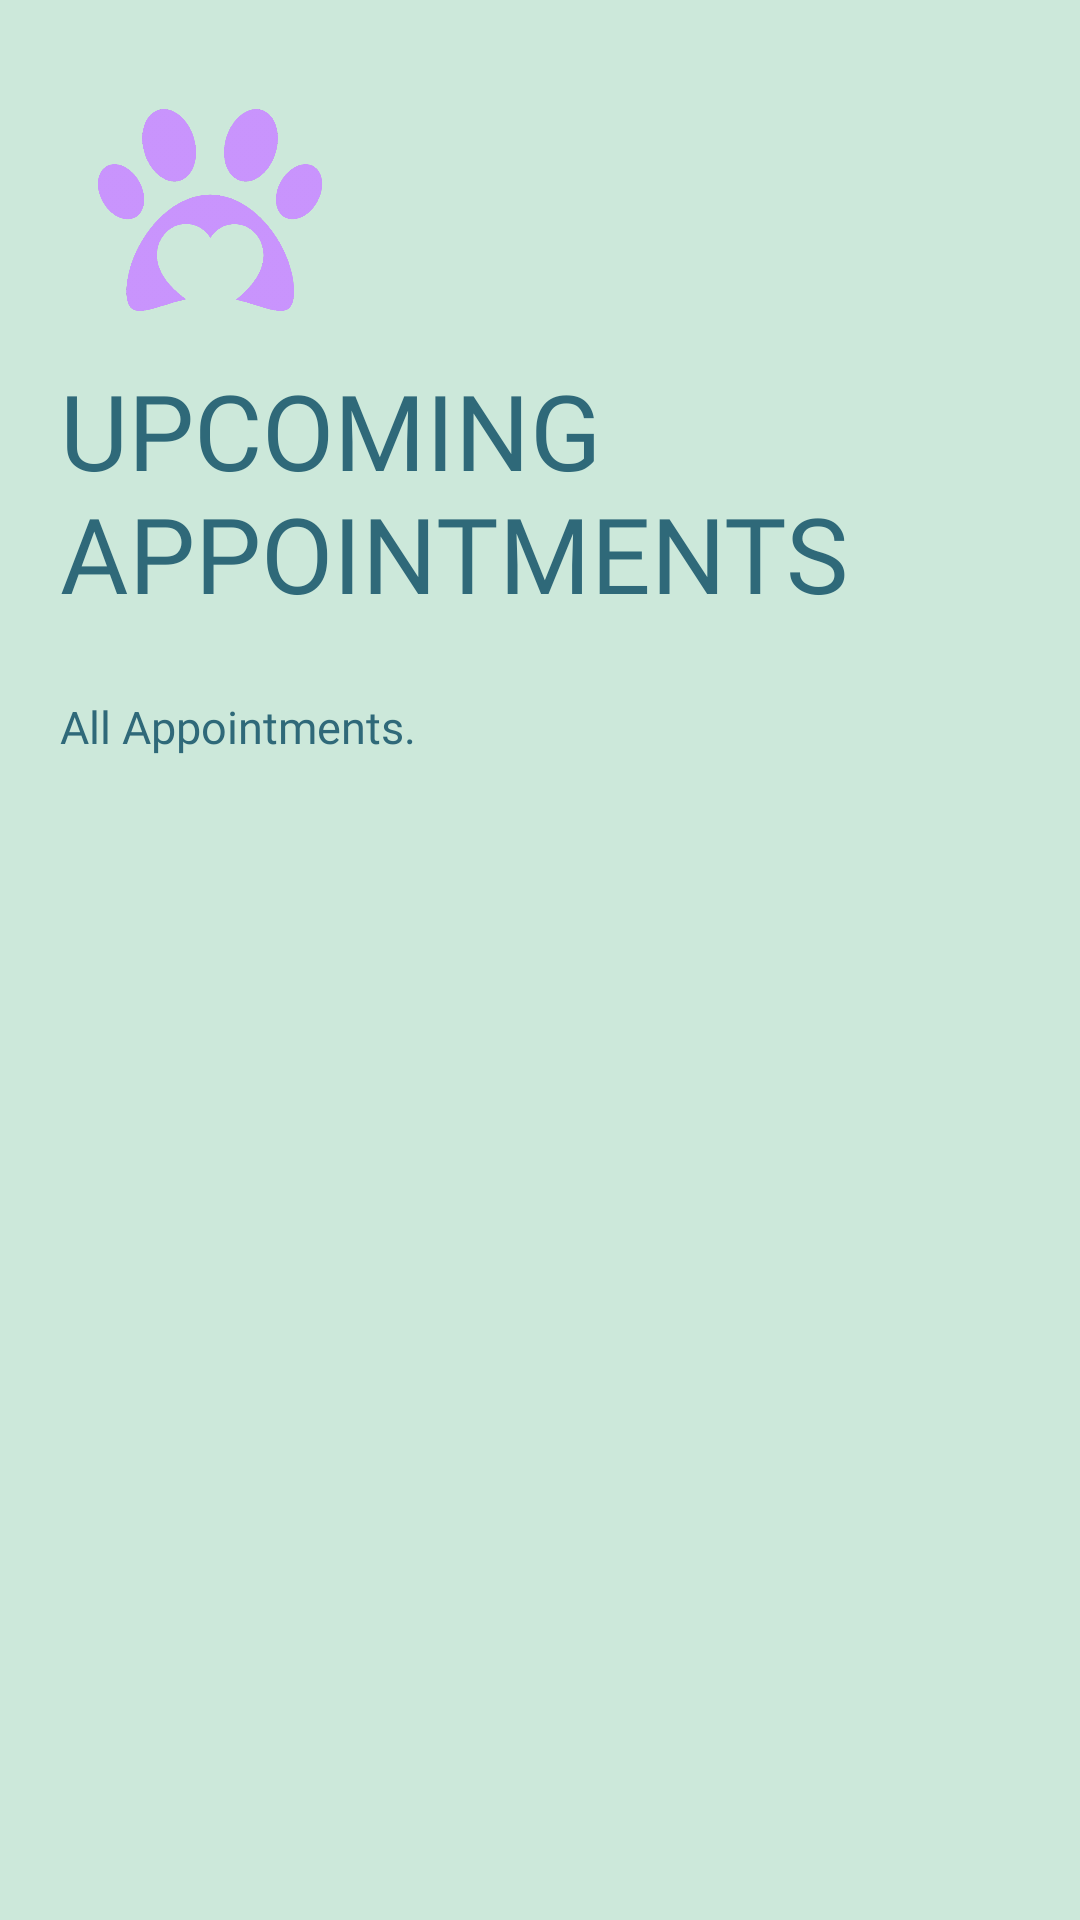

Where to tap for icons on this 1080×1920 app screen, as (x,y):
paw: (210,210)
